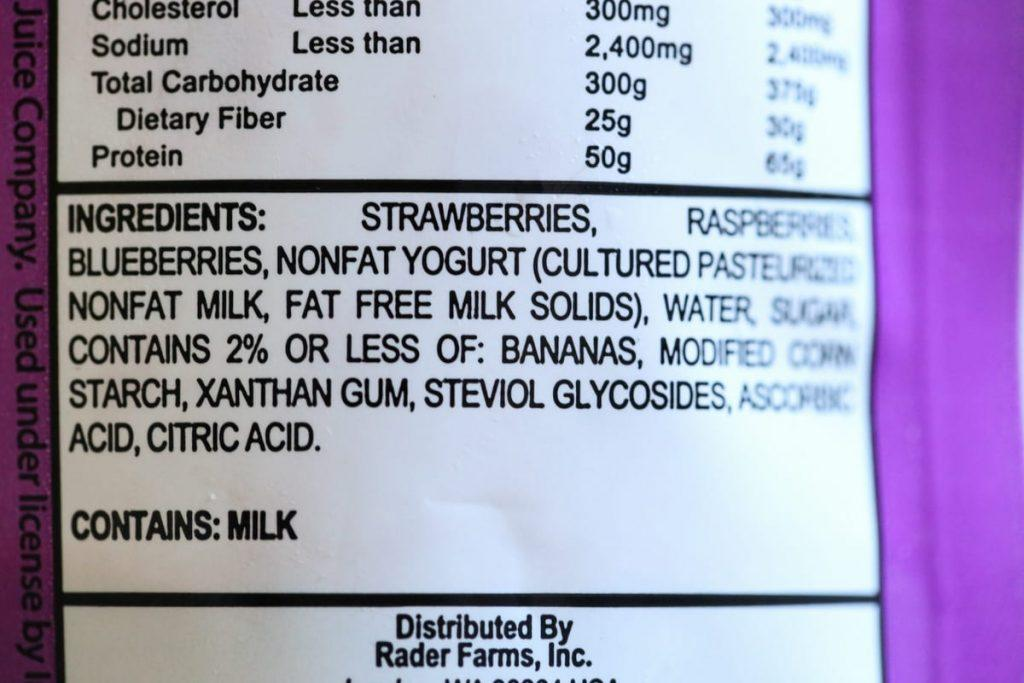ingredients: (61, 197, 870, 458)
